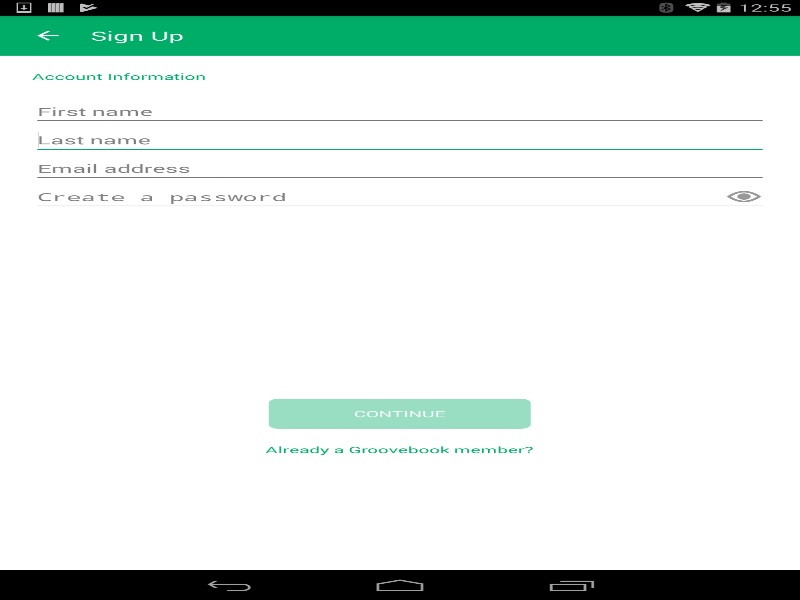Button: (268, 398, 530, 428), (10, 15, 85, 55)
Input: (32, 125, 768, 154), (32, 182, 768, 211), (32, 97, 768, 125), (32, 154, 768, 182)
